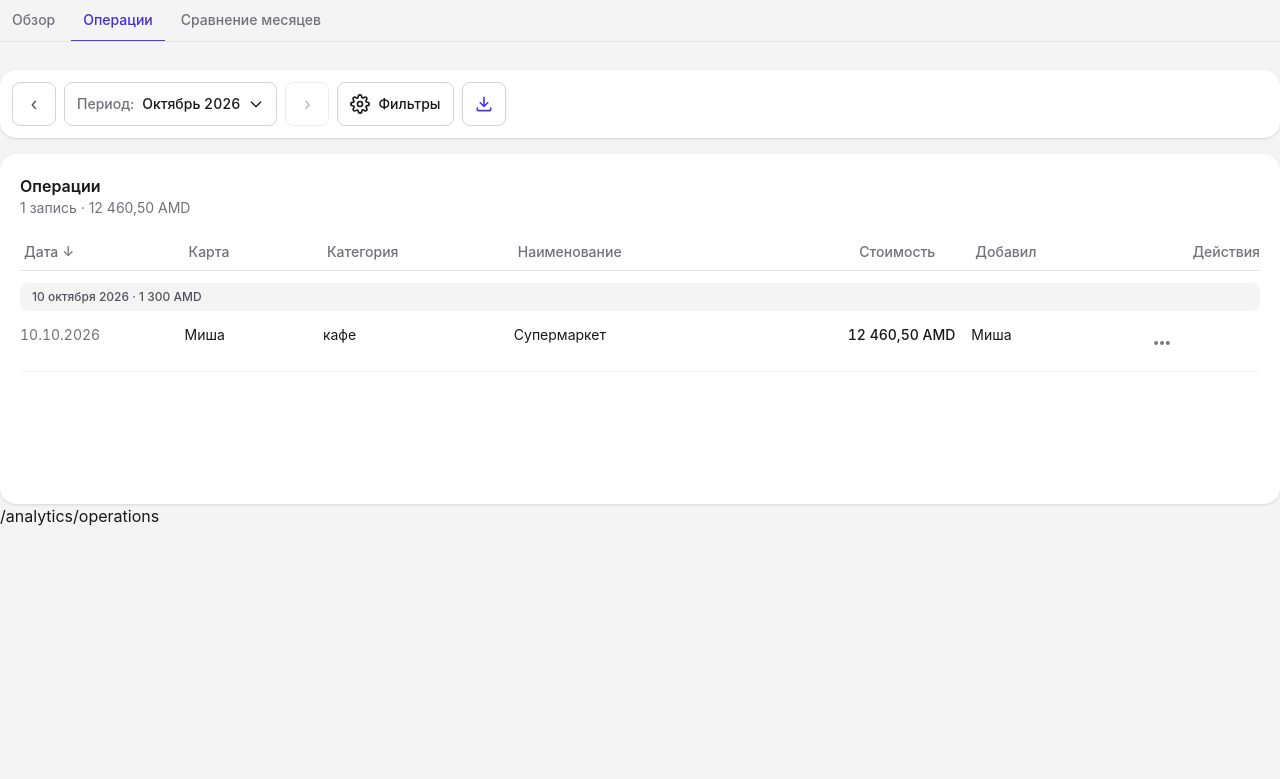
Test case: карточка записи: раздел «Позиции» › показывает позиции; пометка AI только у сгенерированной
Expected: the text "Супермаркет" is shown, [514,325,606,345]
Click the button named "Действия": (1162, 343) [1144,325,1180,361]
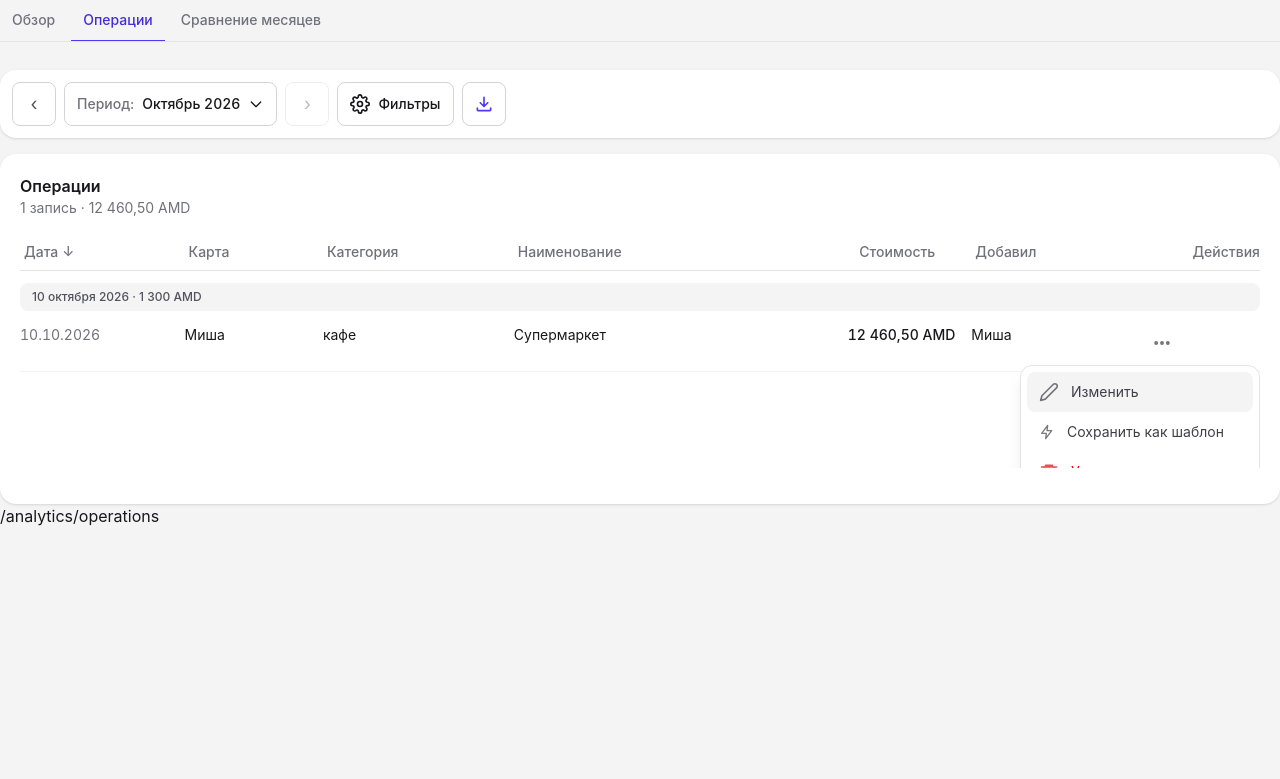
Click the menu item "Изменить": (1140, 392) [1027,372,1253,412]
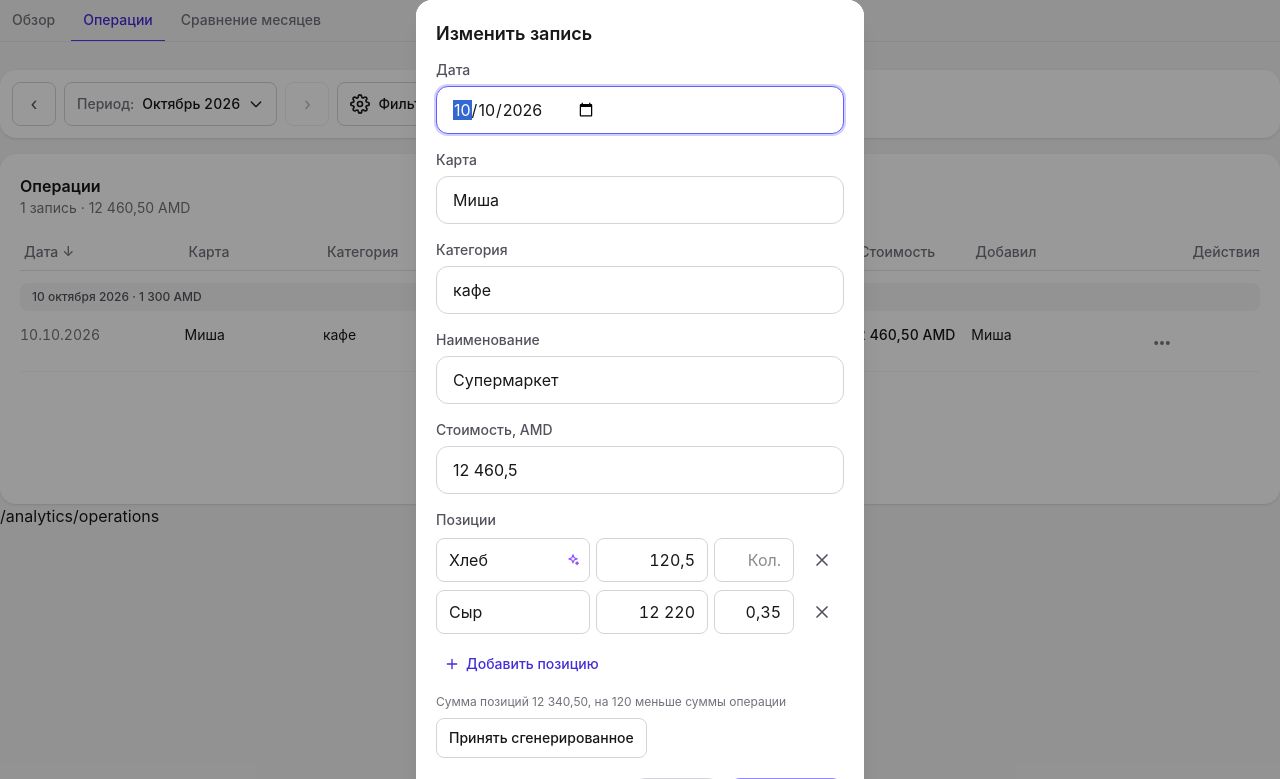
Now the field named "Название позиции 1" holds "Хлеб", box [436,538,590,582]
Now the field named "Цена позиции 1" holds "120,5", box [596,538,708,582]
Now the field named "Количество позиции 2" holds "0,35", box [714,590,794,634]
